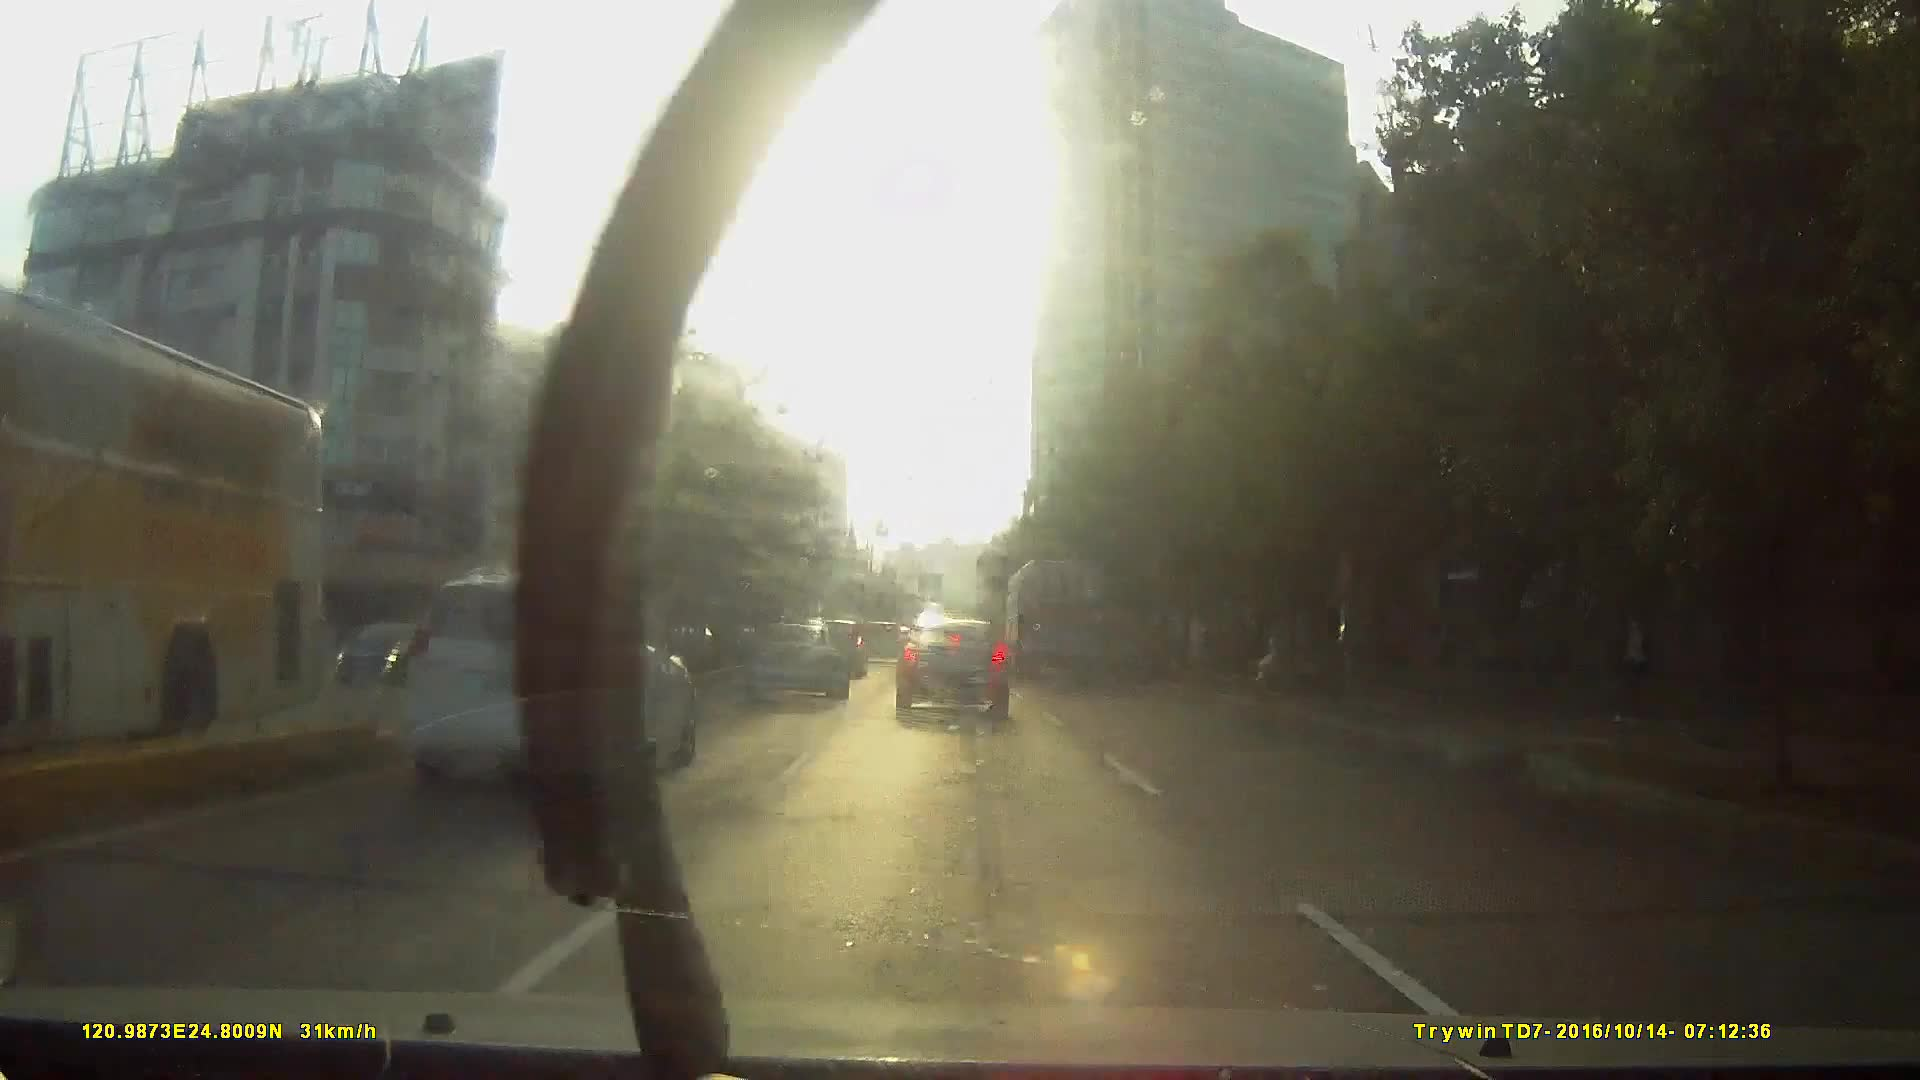pedestrian: (1591, 580, 1666, 739)
vehicle: (1, 283, 340, 795), (250, 556, 684, 868), (393, 567, 694, 792), (1006, 558, 1112, 685), (891, 613, 1007, 721), (319, 617, 469, 700), (737, 621, 846, 704), (854, 616, 903, 665)
